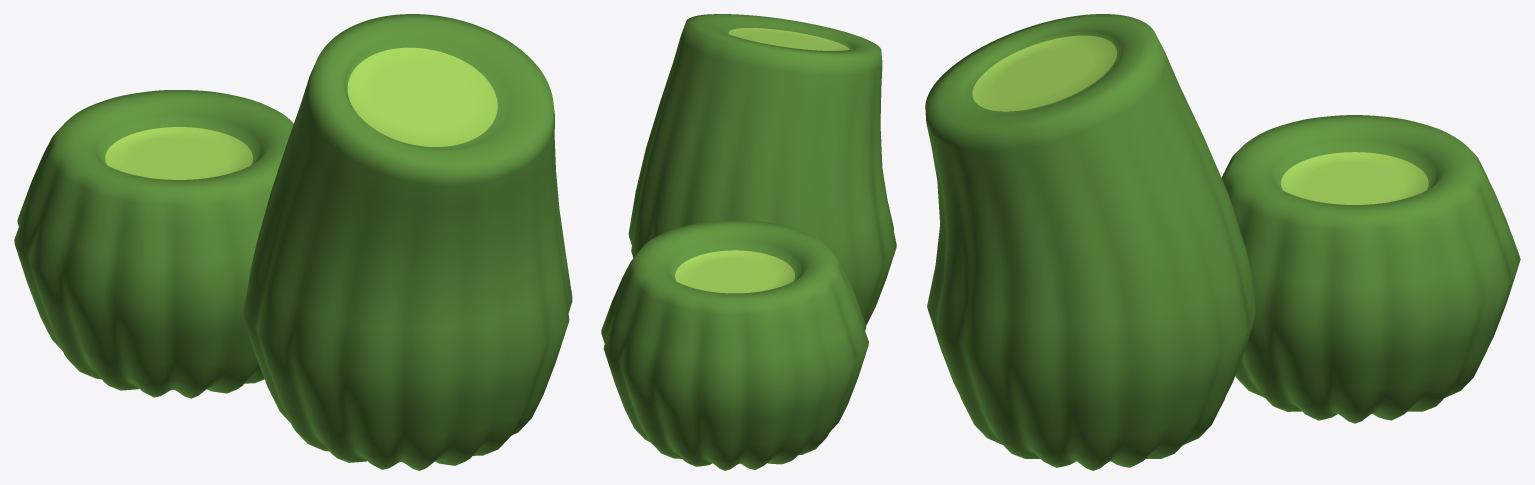
The model's file is tubo vurdz.fbx.
The picture shows the model from 3 angles, left to right: view 1: azimuth 30°, elevation 25°; view 2: azimuth 150°, elevation 25°; view 3: azimuth 270°, elevation 25°; orthographic projection. The views are drawn at different scales.
Parts seen in each view (by area): view 1: Circle.002, tubo vurdz; view 2: tubo vurdz, Circle.002; view 3: Circle.002, tubo vurdz.
Boxes of the visible parts, x1,y1,x2,y2 form: Circle.002: (242,14,572,470); tubo vurdz: (14,90,293,398); tubo vurdz: (601,220,868,470); Circle.002: (628,14,896,325); Circle.002: (925,14,1255,470); tubo vurdz: (1221,115,1520,423).
Size of the model in its own units: 61.82 by 60.82 by 82.91.
